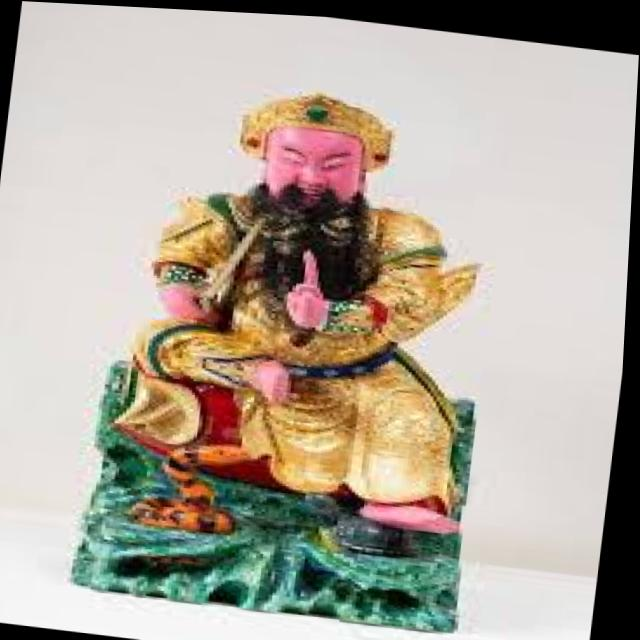Xuan wu: (114, 61, 511, 563)
